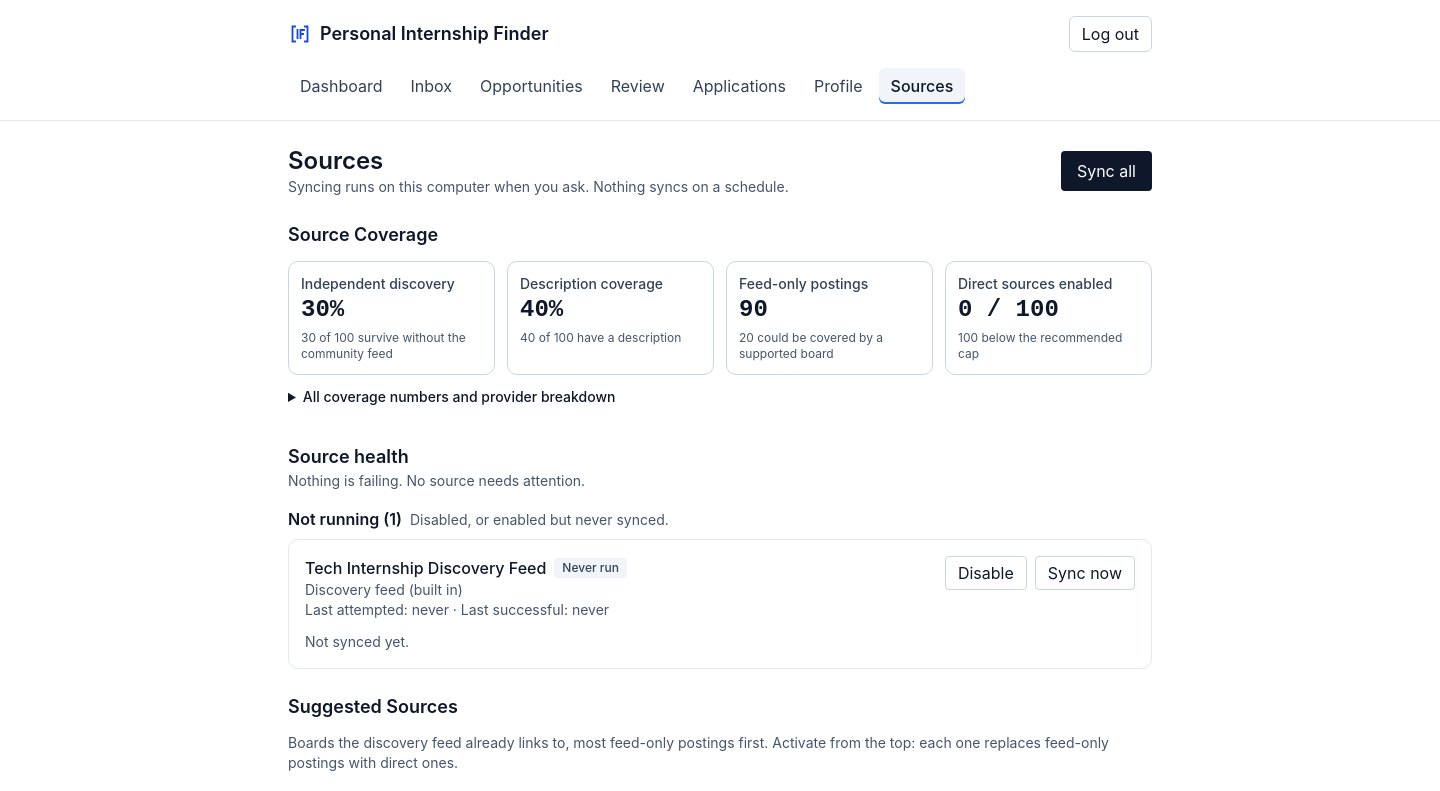
it: sources page › reports a failed sync request
Click the button with aria-label "Sync Tech Internship Discovery Feed now".
click(1085, 573)  # box [1035, 556, 1135, 590]
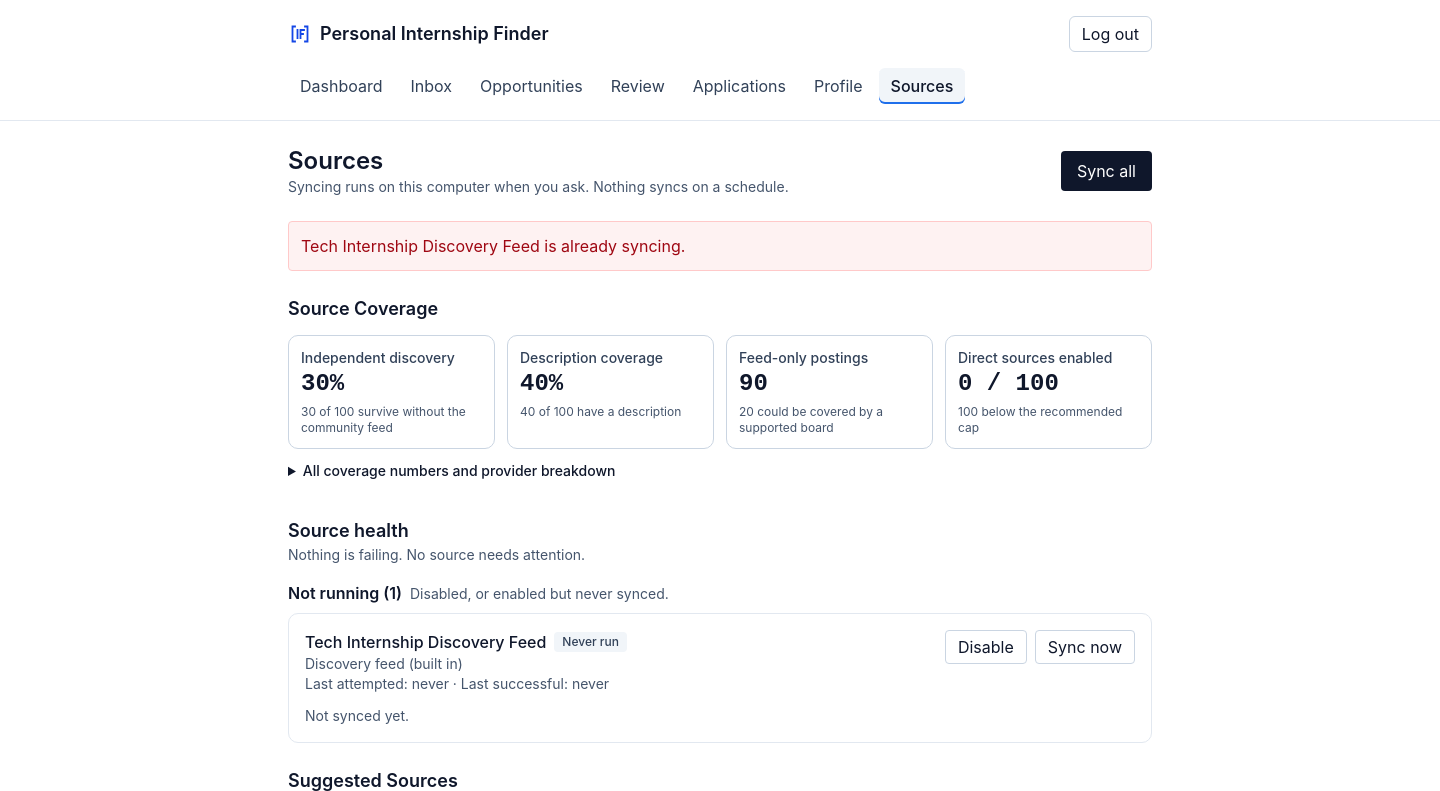
Check: the message shows "is already syncing.", box [301, 236, 685, 256]
